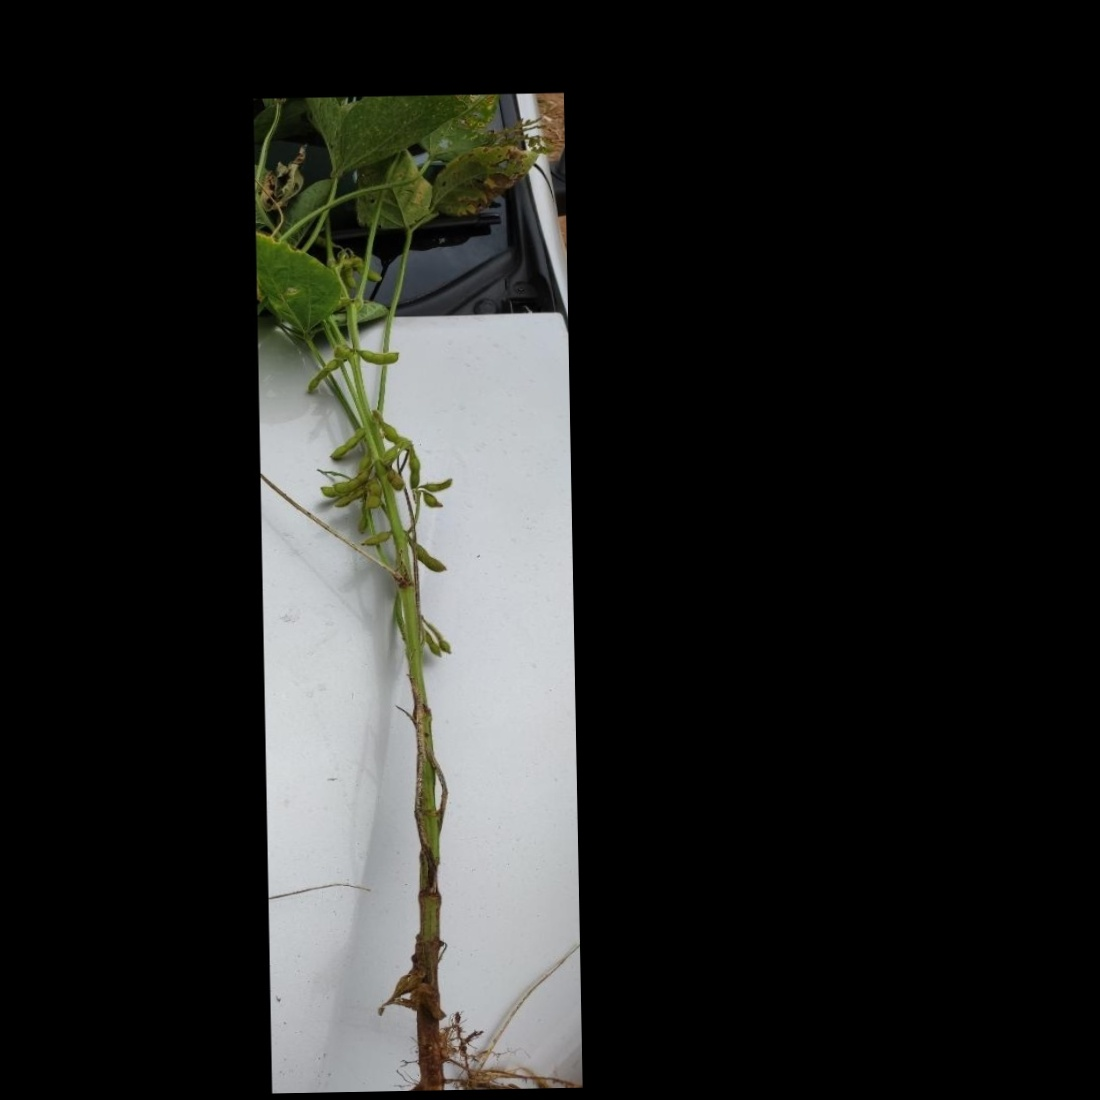pod: (405, 537, 448, 574), (303, 357, 347, 394), (327, 427, 365, 460), (357, 345, 400, 366), (416, 475, 461, 494), (418, 626, 441, 661), (352, 252, 378, 282), (405, 448, 421, 491), (364, 476, 384, 509), (357, 529, 392, 547), (418, 489, 446, 511), (383, 467, 406, 491), (439, 632, 457, 657), (343, 261, 356, 290)
soy: (264, 105, 556, 1087)
